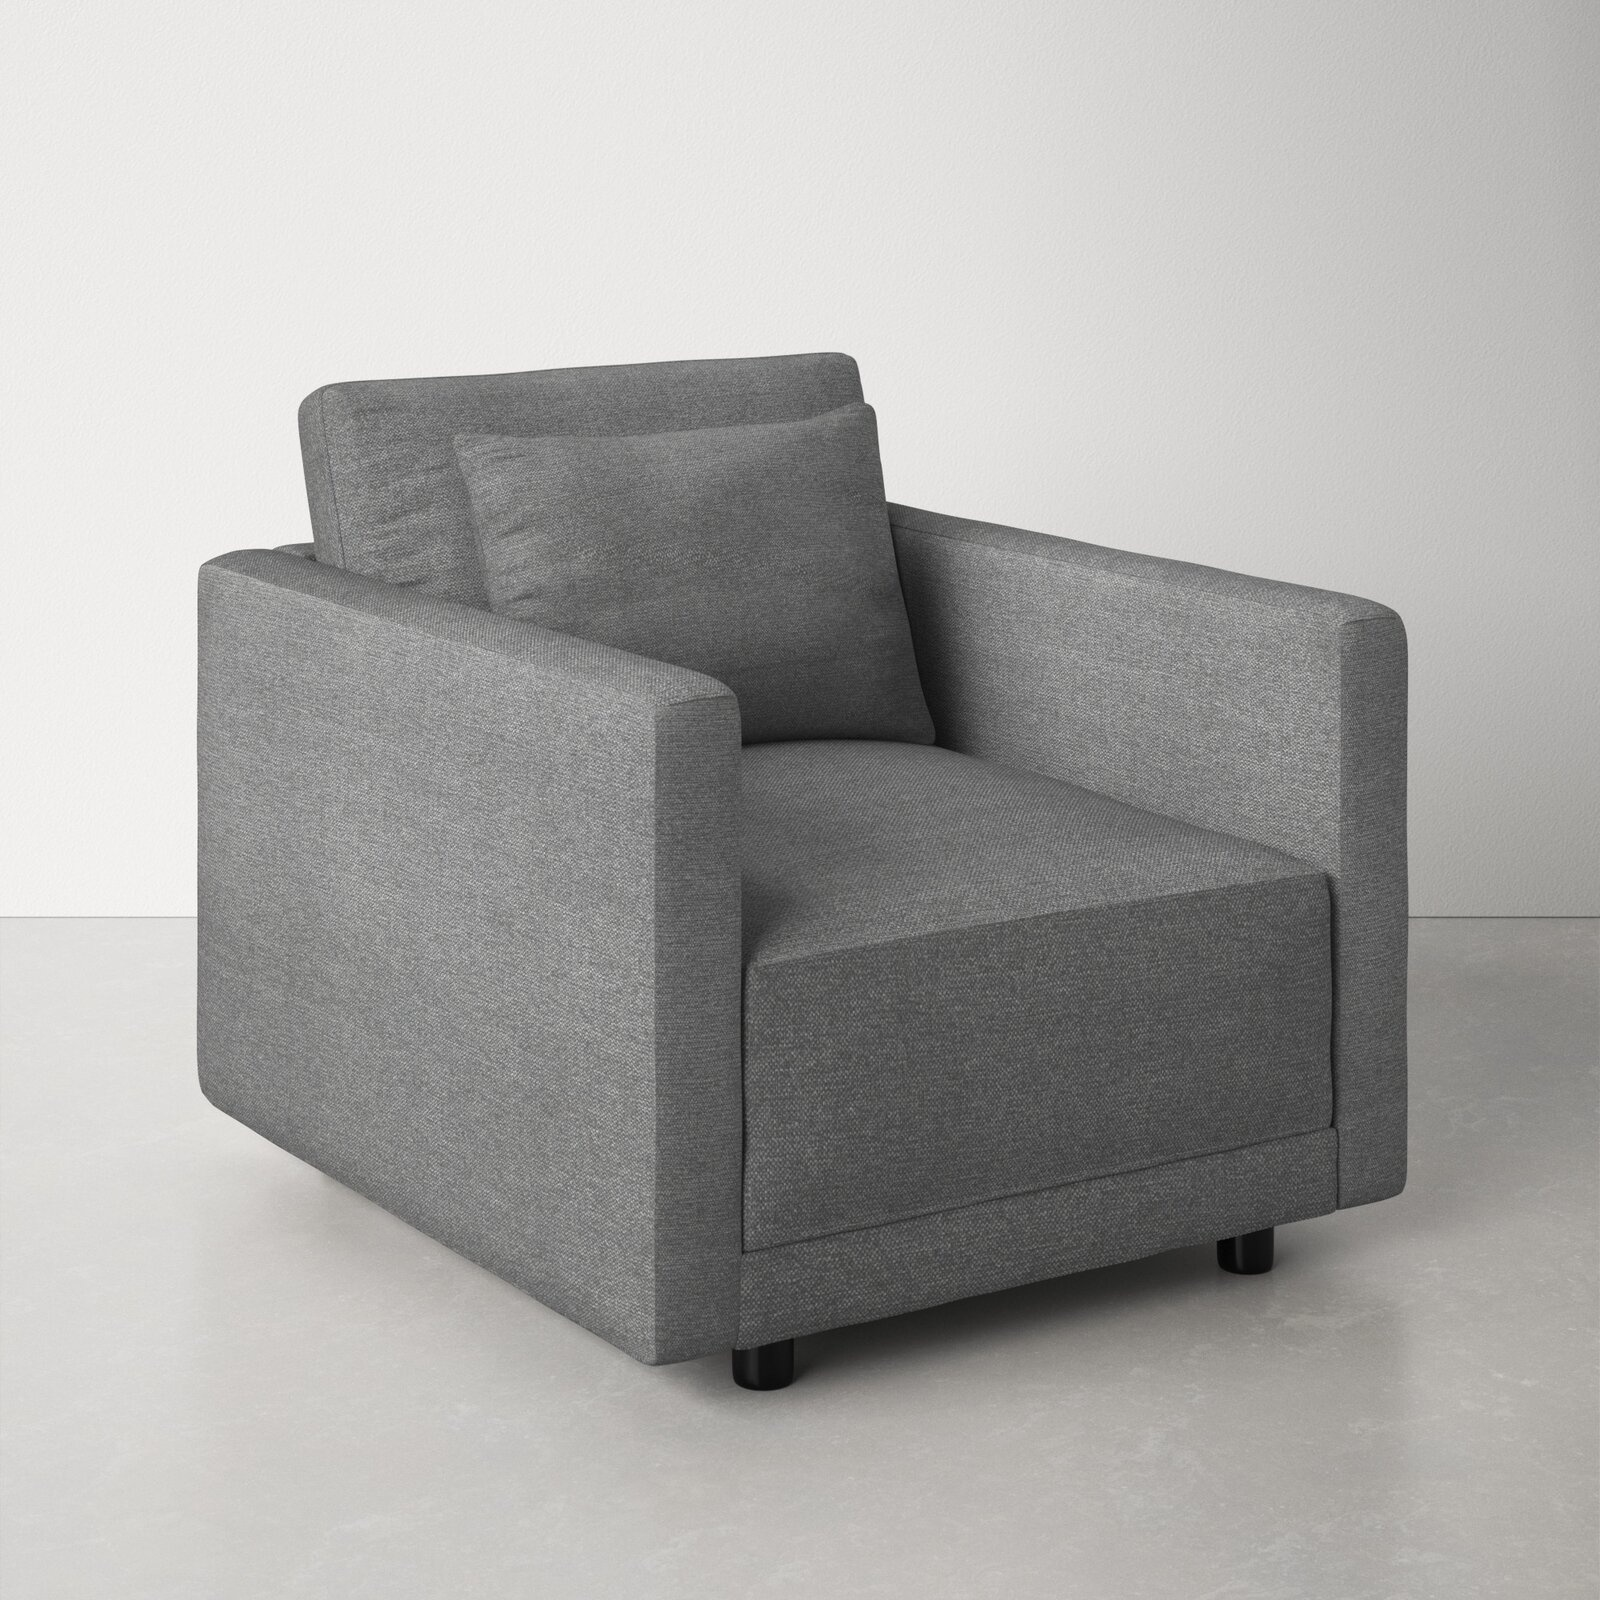obstacle: (199, 355, 1405, 1373)
